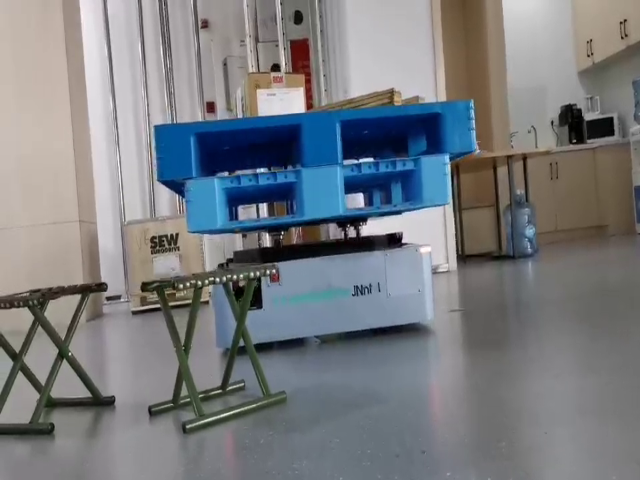block: (296, 115, 342, 169), (154, 125, 196, 182), (438, 102, 479, 156)
front: (155, 101, 478, 180)
hole pallet: (193, 125, 304, 177), (340, 117, 440, 166)
